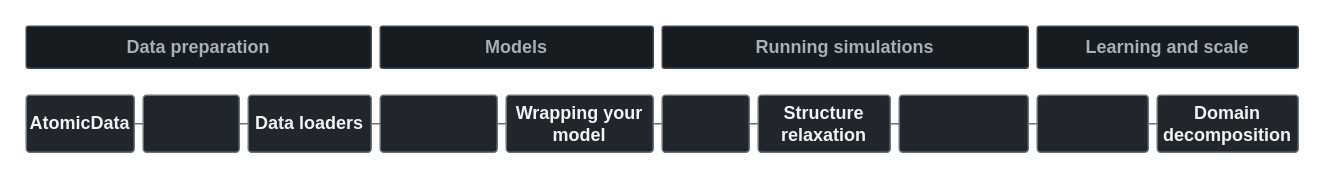
Image size: 1325x179. Some labels were removed from this diagram. Here are the shapes that lost their labels. From the top down, the centre of each, then its label:
pixel 190 123: Batches
pixel 438 123: Built-in models
pixel 705 123: Hooks
pixel 963 123: Molecular dynamics
pixel 1092 123: Fine-tuning
